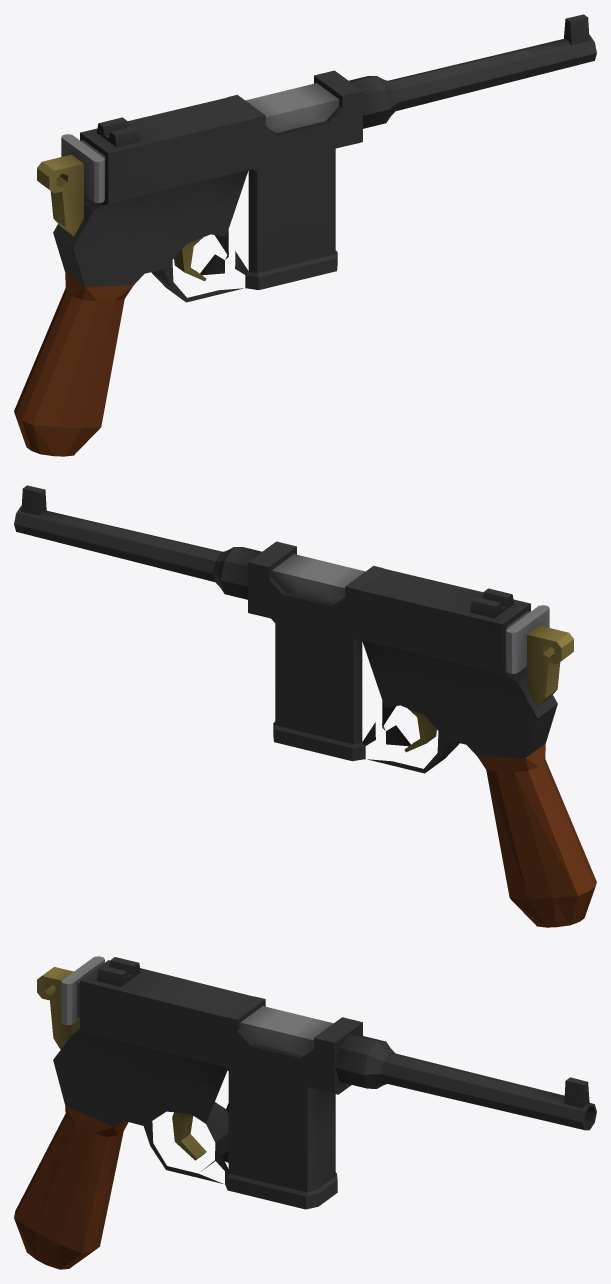
The model's file is v-msr-c96-medium.glb.
3 renders of one model, top to bottom at view 1: azimuth 30°, elevation 25°; view 2: azimuth 150°, elevation 25°; view 3: azimuth 330°, elevation 25°, orthographic.
Visible parts, largest first — view 1: body; view 2: body; view 3: body.
Part boxes in pixels (box(x1,y1,x2,y2)): body: box(14, 14, 596, 456); body: box(14, 485, 596, 927); body: box(14, 956, 596, 1269).
Bounding box in the file's own units: 0.22 × 0.1151 × 0.0244.
